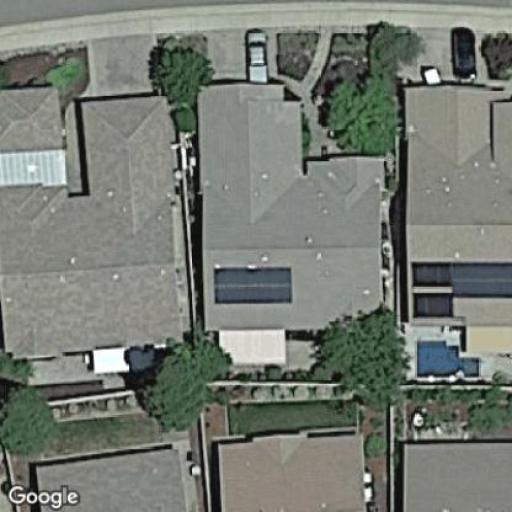solar-panel: (408, 254, 510, 322), (210, 260, 298, 311)
